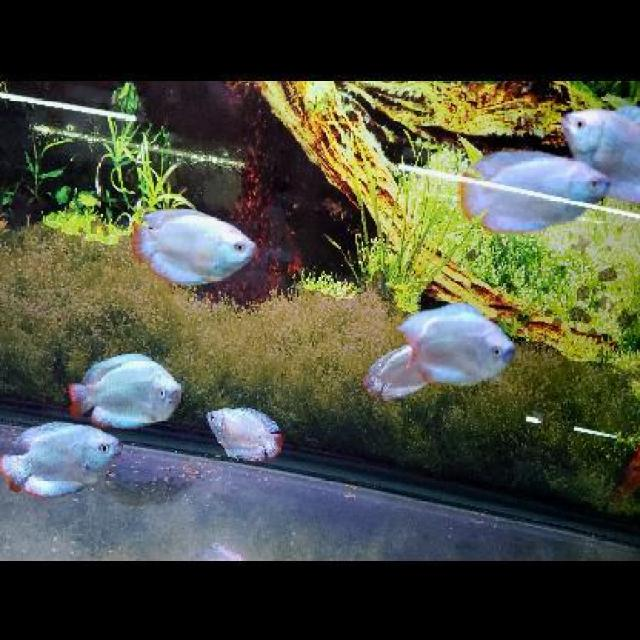Gourami: (458, 147, 613, 236), (396, 298, 518, 391), (128, 204, 257, 285), (0, 418, 123, 502), (66, 350, 183, 432), (205, 403, 288, 465)
